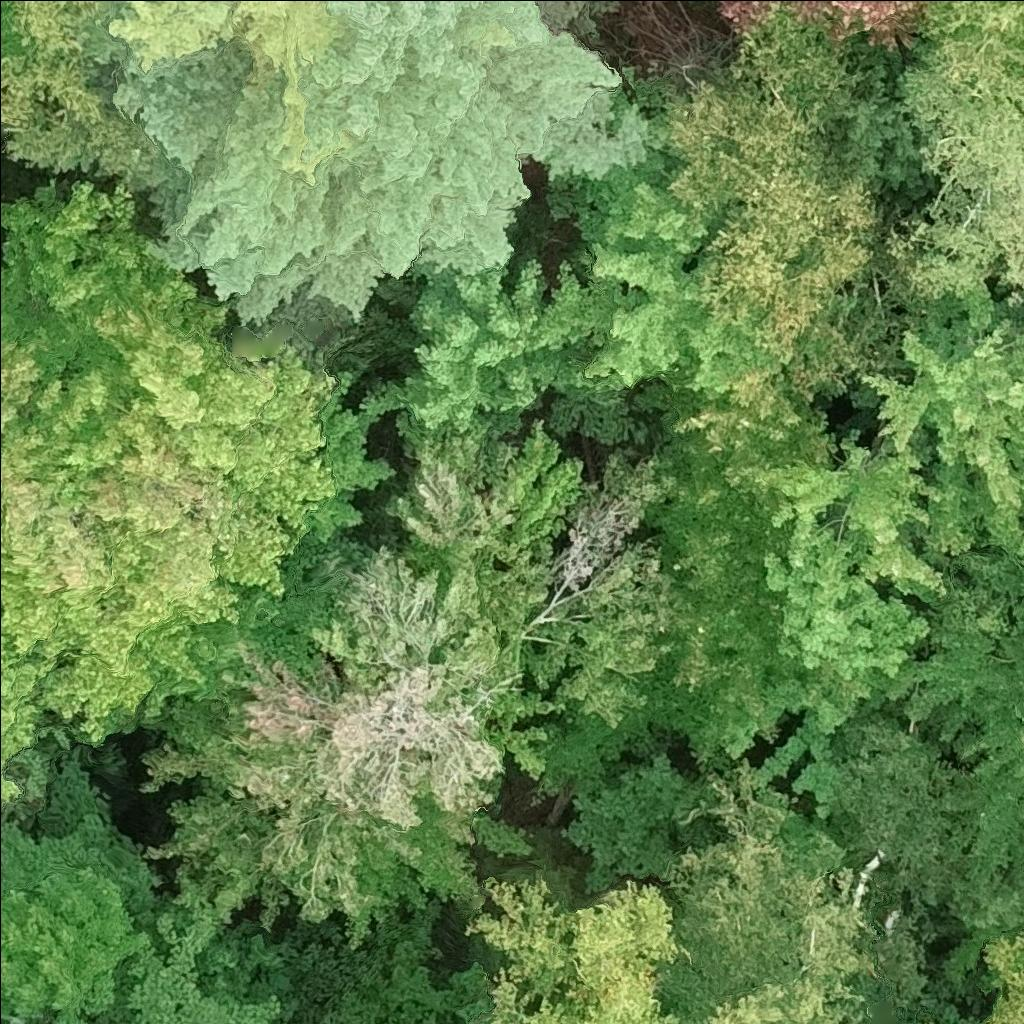crown: (0, 179, 393, 738), (91, 0, 642, 322), (142, 532, 561, 945), (617, 357, 941, 759), (388, 421, 675, 726), (669, 14, 878, 394), (550, 79, 782, 397), (360, 258, 651, 449), (673, 758, 882, 1023), (870, 535, 1023, 872), (872, 268, 1023, 553), (888, 65, 1023, 308), (470, 878, 692, 1023), (0, 0, 158, 192), (0, 864, 150, 1023), (123, 905, 281, 1023), (0, 587, 61, 760), (716, 0, 922, 48), (916, 0, 1023, 88), (981, 931, 1023, 1023), (0, 775, 27, 809), (4, 1019, 23, 1023), (57, 1023, 59, 1023), (926, 1023, 927, 1023)
